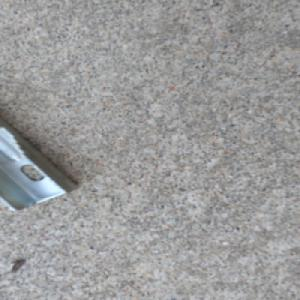ClampPart: (0, 113, 81, 212)
